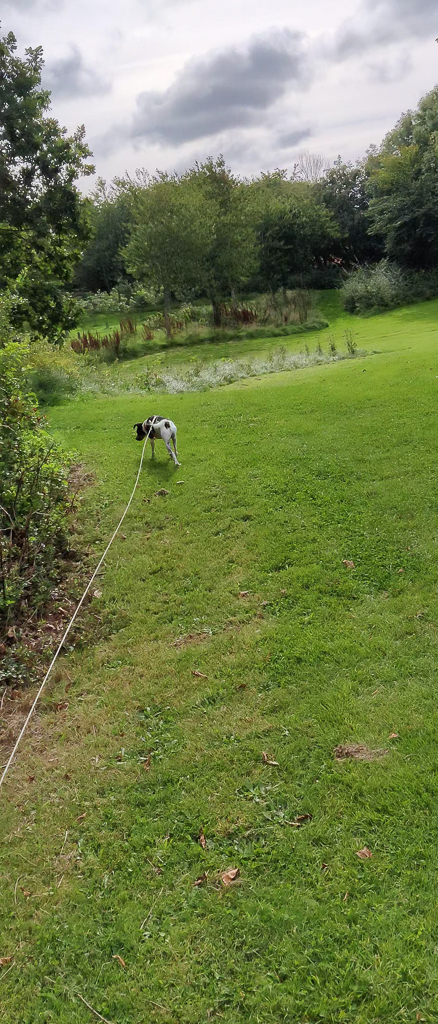Dog: (131, 413, 183, 469)
